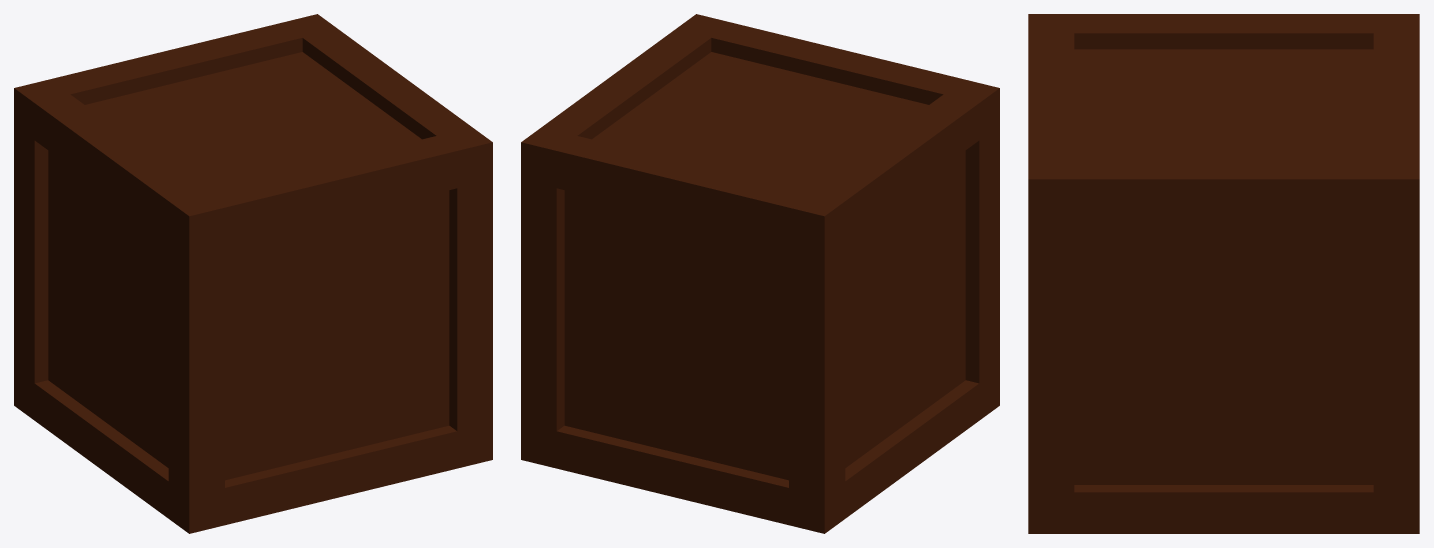
File: Crate1.fbx
The picture shows the model from 3 angles, left to right: view 1: azimuth 30°, elevation 25°; view 2: azimuth 150°, elevation 25°; view 3: azimuth 270°, elevation 25°; orthographic projection. The views are drawn at different scales.
Visible parts, largest first — view 1: Box001; view 2: Box001; view 3: Box001.
Part boxes in pixels (bbox=[...]): Box001: bbox=[14, 14, 492, 533]; Box001: bbox=[521, 14, 999, 533]; Box001: bbox=[1028, 14, 1419, 533].
Size of the model in its own units: 39.37 by 39.37 by 39.37.
